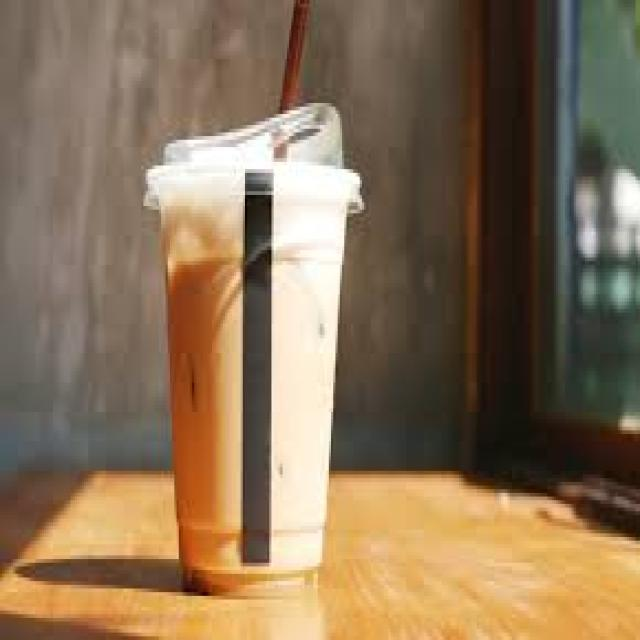cup: (150, 163, 360, 591)
